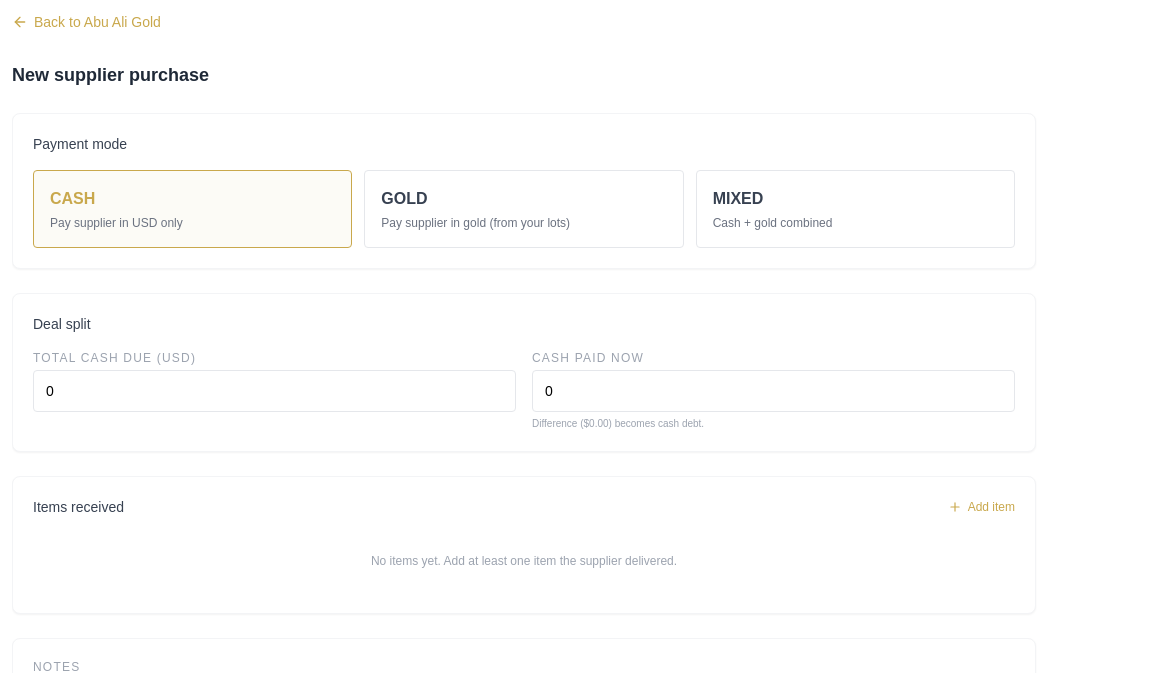
Test: new supplier purchase labels and i18n (NEX-64) › every item control has a name, whatever the item kind
Click the button "Add item" at (981, 507), box [948,499,1015,515]
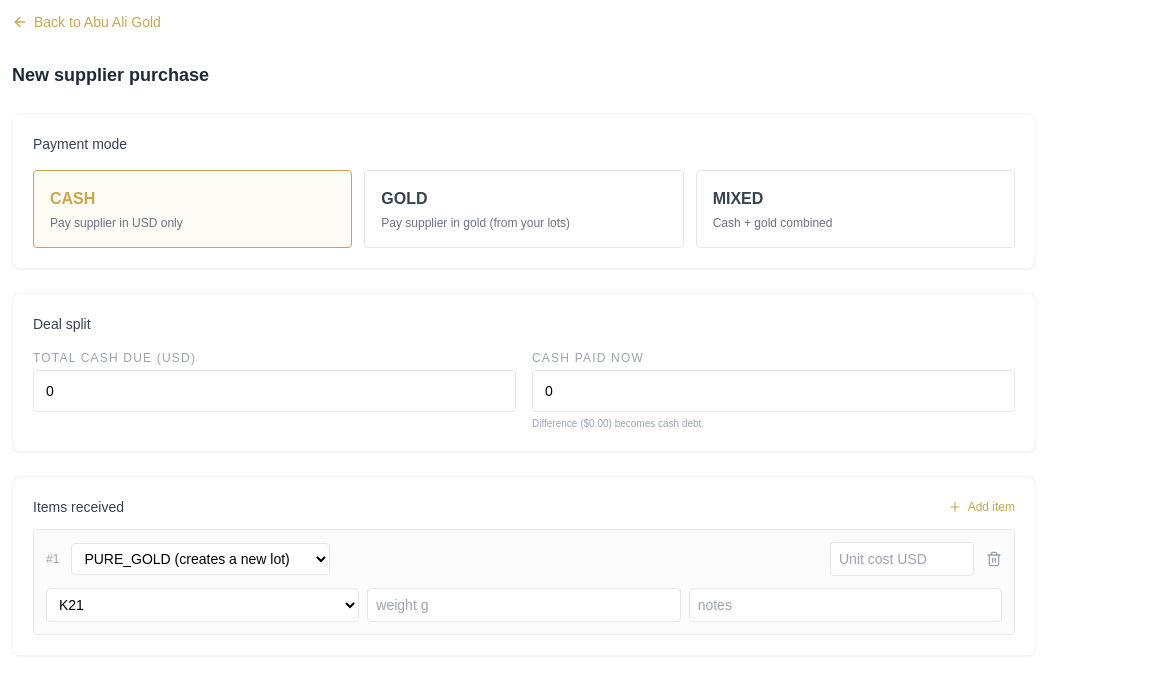
Select "COIN (increments coin stock)" in the dropdown named "Item type" at (201, 559), box [71,543,330,575]
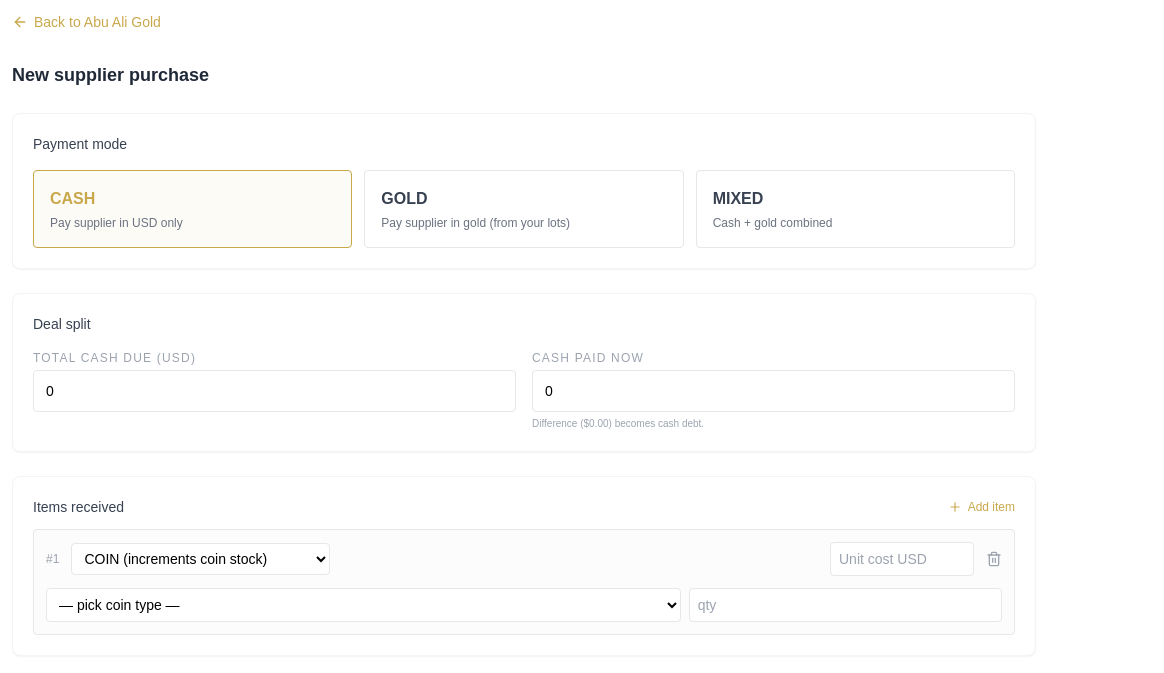
Select "OUNCE (increments ounce stock)" in the dropdown named "Item type" at (201, 559), box [71,543,330,575]
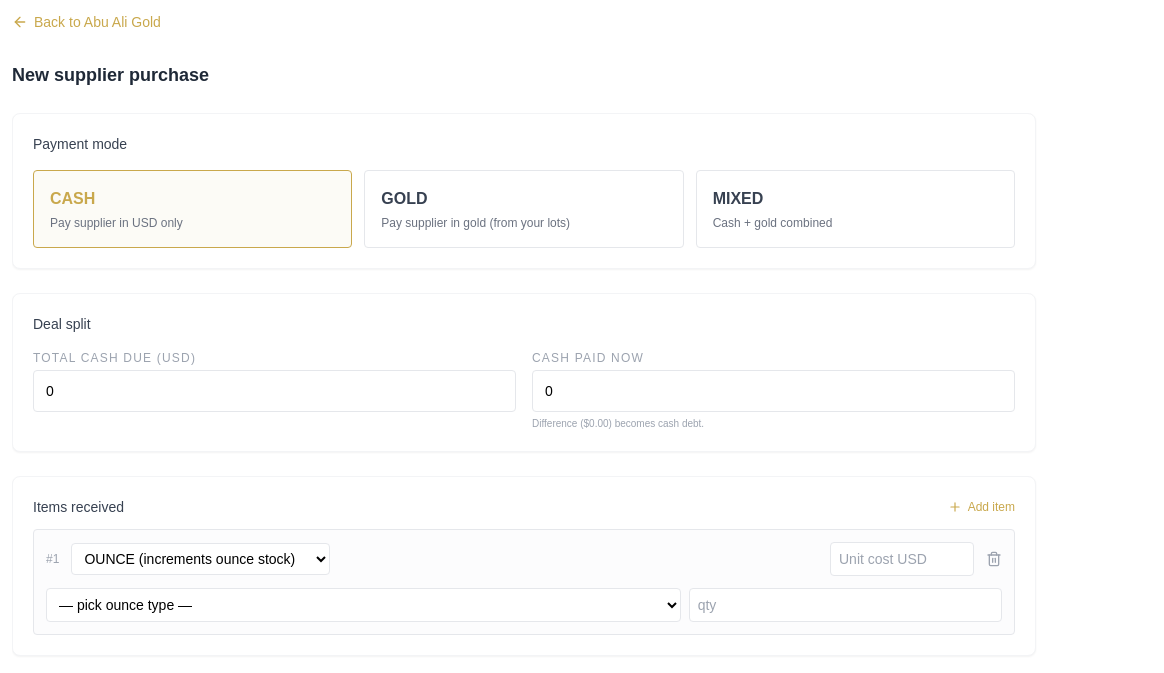
Select "PRODUCT (creates a new product)" in the dropdown named "Item type" at (201, 559), box [71,543,330,575]
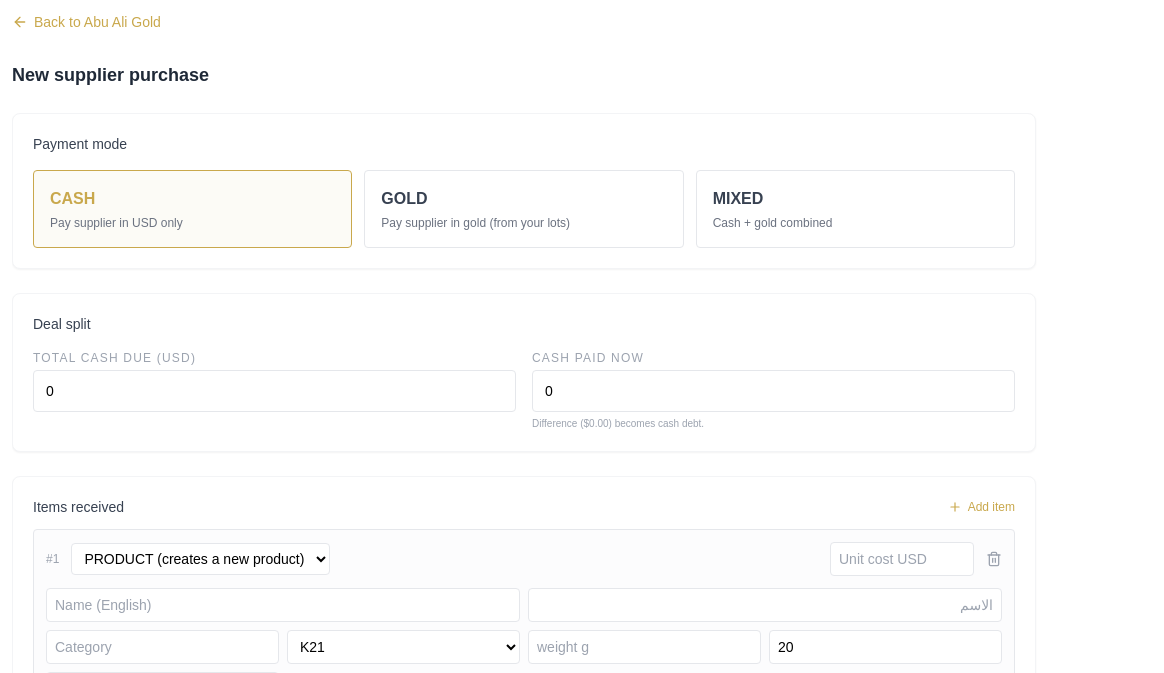
Click the button named "Remove item" at (994, 559), box [986,551,1002,567]
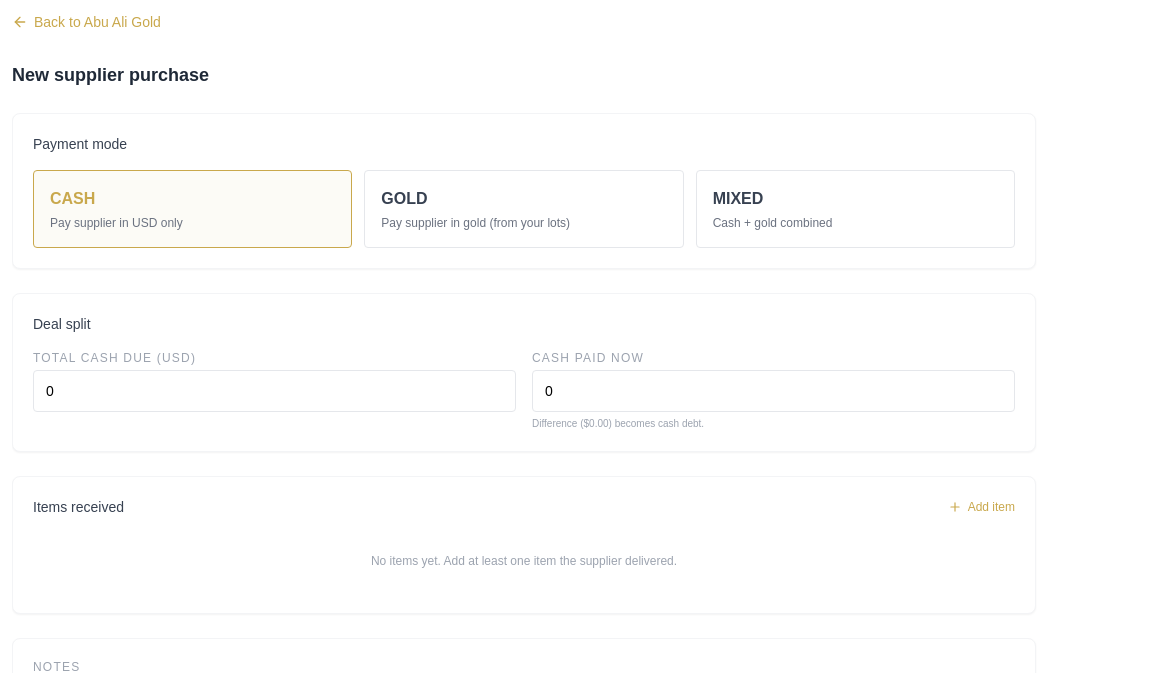
Expected: the text "No items yet. Add at least one item the supplier delivered." is shown, [371,554,677,568]
